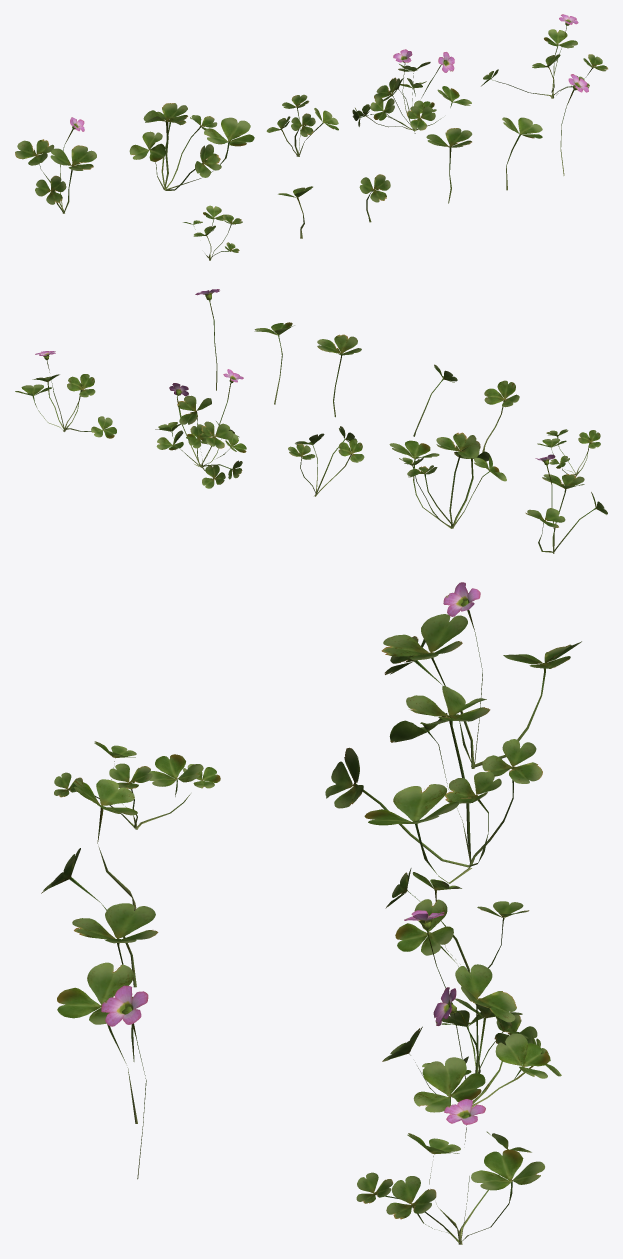
Rendered from shrub_sorrel_01.glb.
3 renders of one model, top to bottom at view 1: azimuth 30°, elevation 25°; view 2: azimuth 150°, elevation 25°; view 3: azimuth 270°, elevation 25°, orthographic. The views are drawn at different scales.
Visible parts, largest first — view 1: shrub_sorrel_01_a; view 2: shrub_sorrel_01_a; view 3: shrub_sorrel_01_a.
Boxes of the visible parts, x1,y1,x2,y2 form: shrub_sorrel_01_a: [15, 14, 607, 260]; shrub_sorrel_01_a: [15, 289, 607, 553]; shrub_sorrel_01_a: [41, 582, 581, 1244].
Size of the model in its own units: 0.3521 by 0.058 by 0.1464.
Materials: 1 (1 with a texture image).
